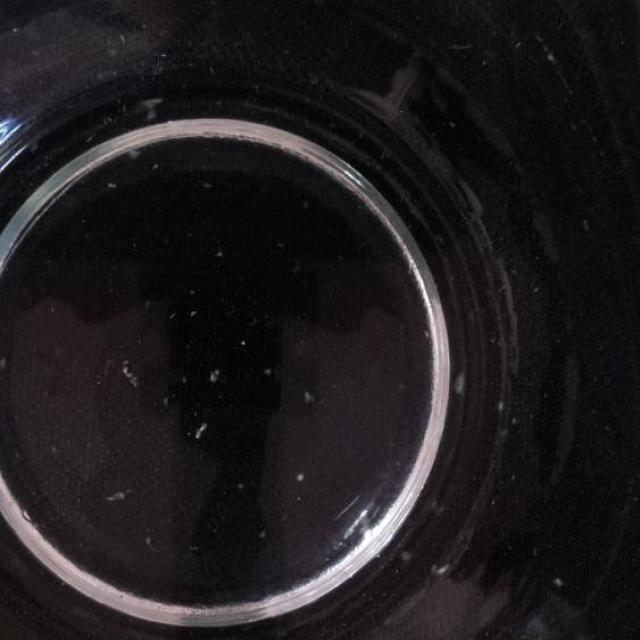fiber: (116, 360, 139, 392), (453, 365, 473, 397), (0, 348, 9, 411), (194, 416, 210, 444), (202, 365, 218, 392), (397, 549, 416, 571), (107, 485, 127, 505), (300, 381, 310, 418), (106, 179, 125, 198), (158, 386, 173, 407), (436, 559, 450, 579), (233, 332, 252, 346), (547, 571, 565, 585), (293, 463, 306, 482), (188, 306, 201, 323), (215, 241, 226, 260), (238, 471, 246, 490)
